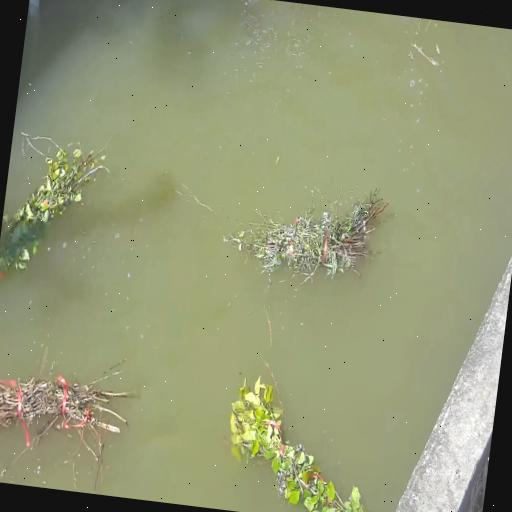twig: (200, 359, 381, 512), (0, 341, 146, 484), (236, 160, 380, 304), (0, 121, 96, 300)
